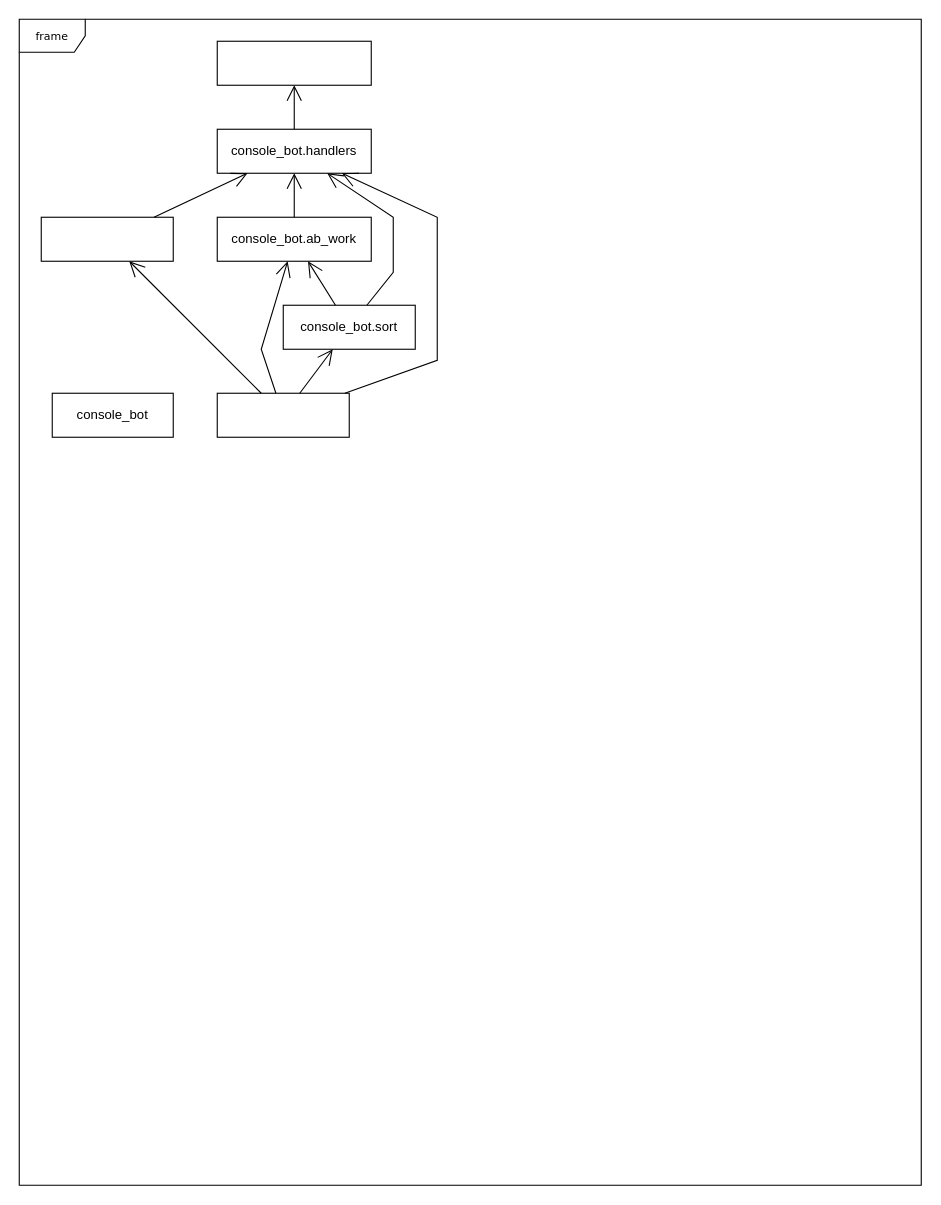
This 941x1205 diagram has some shape labels left out. The shapes that lost their labels are listed below. From the top down, each one's box as (x1, y1, x2, y2) in pixels, then its label:
(216, 40, 371, 85): console_bot.classes
(40, 216, 173, 261): console_bot.Notes
(216, 392, 349, 437): console_bot.main
